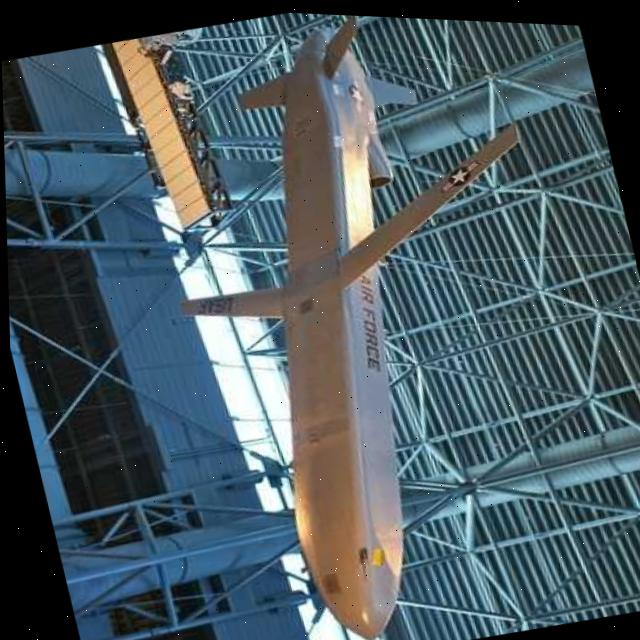missile: (120, 4, 626, 640)
